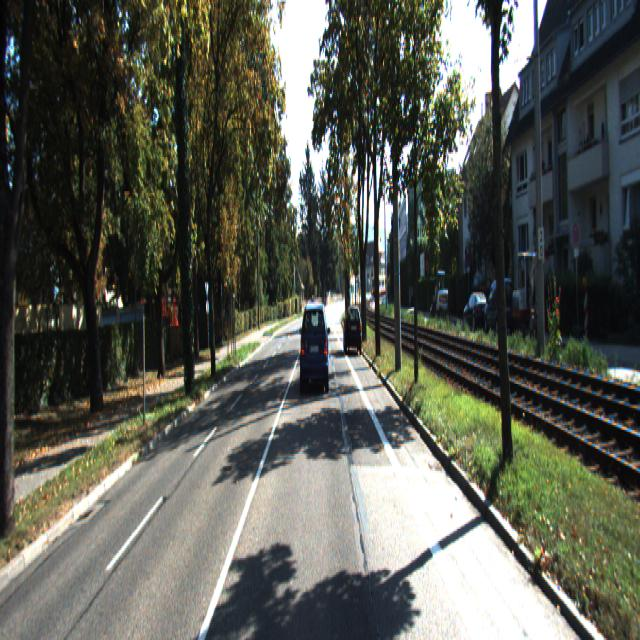Car: (300, 301, 330, 397), (512, 247, 538, 335), (484, 277, 518, 337), (463, 292, 492, 333), (344, 304, 362, 356), (436, 272, 448, 320)
